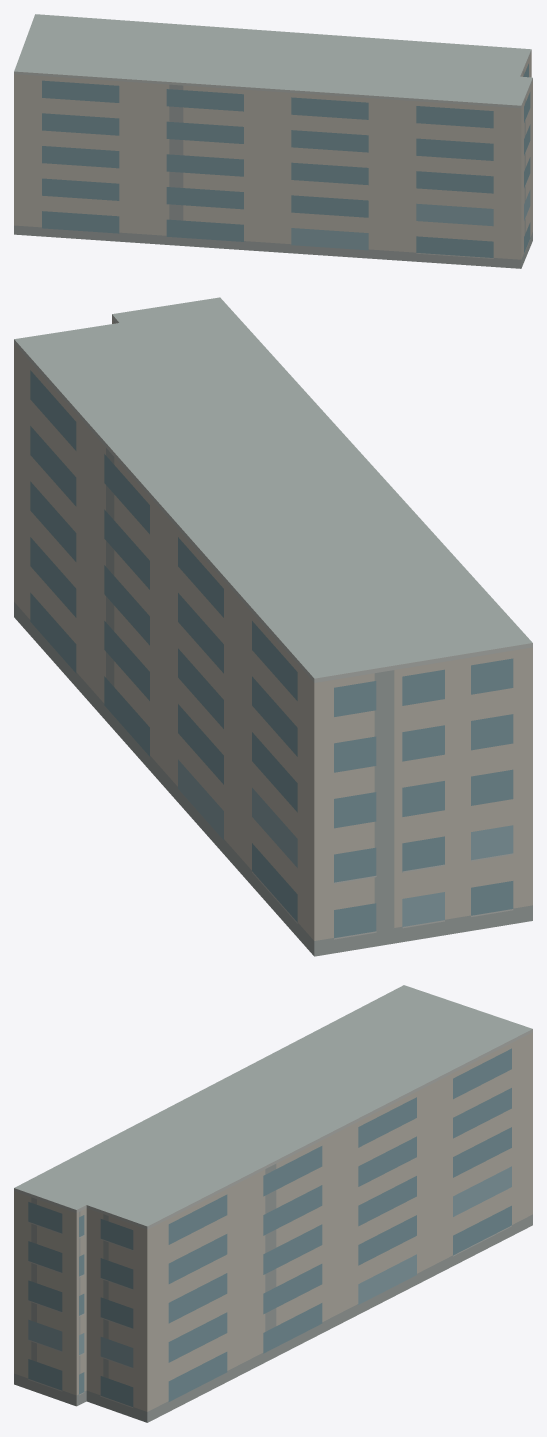
File: residential-496a4c7b-b863-4167-b831-4ef95247ee38.glb
3 views of the same model, one above another, from view 1: azimuth 30°, elevation 25°; view 2: azimuth 150°, elevation 25°; view 3: azimuth 270°, elevation 25° (orthographic). The views are drawn at different scales.
Parts seen in each view (by area): view 1: residential-496a4c7b-b863-4167-b831-4ef95247ee38.tmp; view 2: residential-496a4c7b-b863-4167-b831-4ef95247ee38.tmp; view 3: residential-496a4c7b-b863-4167-b831-4ef95247ee38.tmp.
Boxes of the visible parts, bbox=[...] form: residential-496a4c7b-b863-4167-b831-4ef95247ee38.tmp: bbox=[14, 14, 532, 268]; residential-496a4c7b-b863-4167-b831-4ef95247ee38.tmp: bbox=[14, 297, 532, 956]; residential-496a4c7b-b863-4167-b831-4ef95247ee38.tmp: bbox=[14, 985, 532, 1422].
Bounding box in the file's own units: 40.22 × 15.25 × 36.52.
